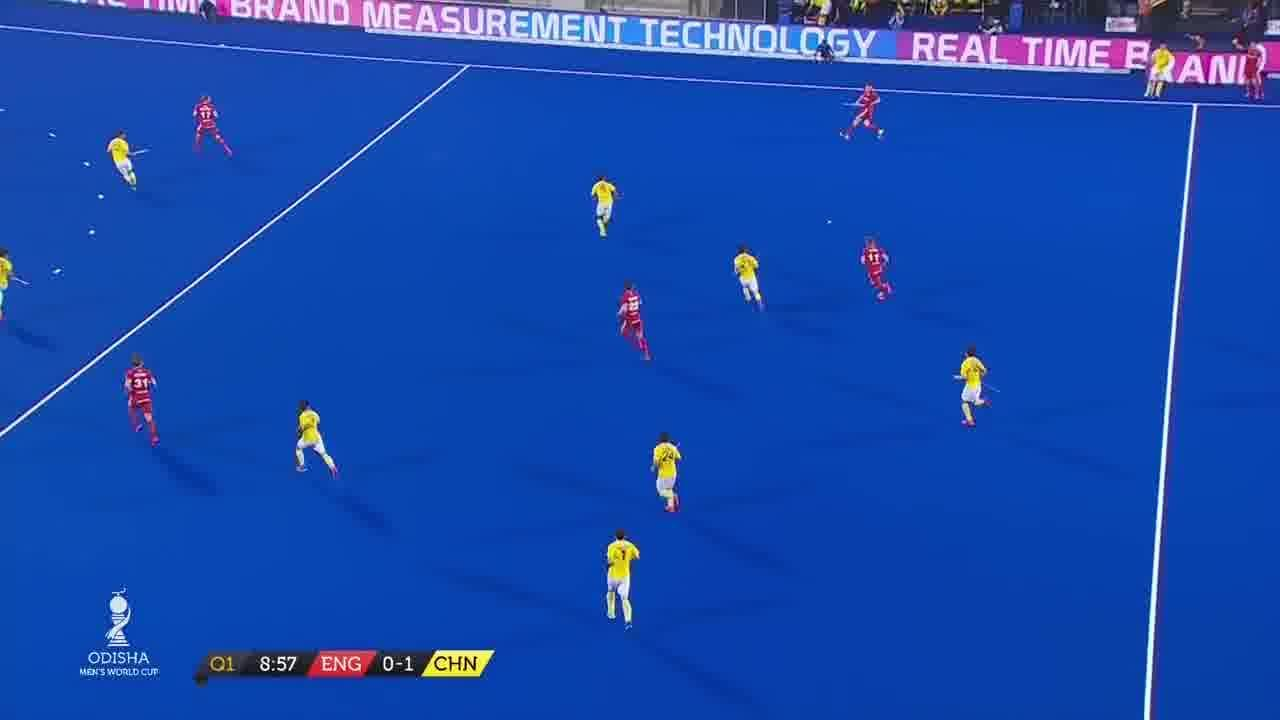ball: (826, 212, 844, 236)
